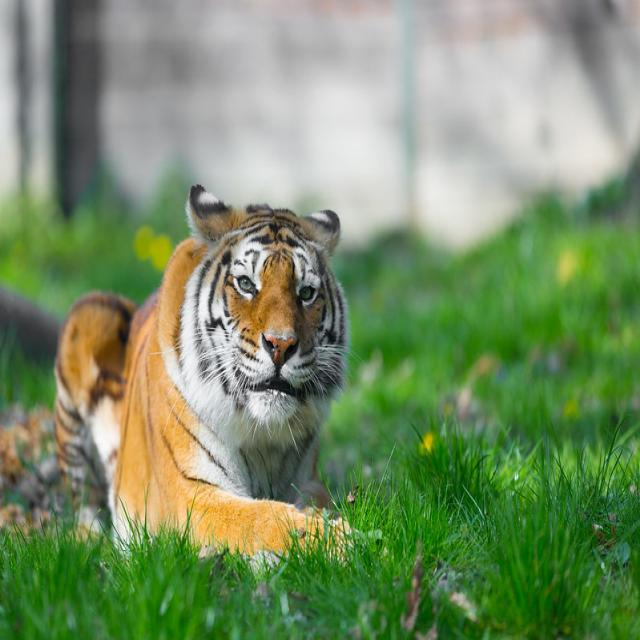Tiger: (44, 178, 374, 574)
